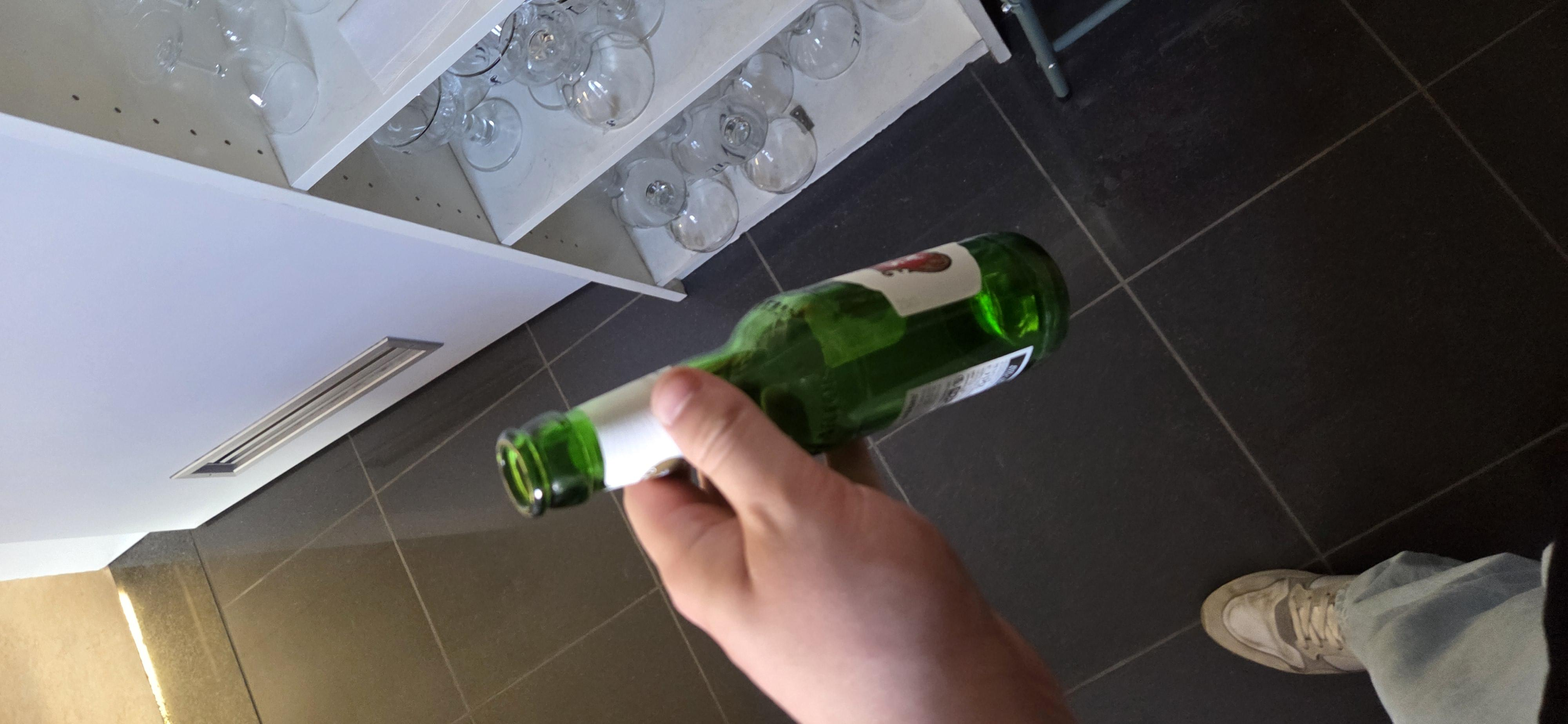Glass: (441, 225, 1094, 489), (1213, 65, 1524, 150), (1171, 169, 1441, 250), (1128, 301, 1388, 383), (1018, 252, 1230, 332), (1349, 208, 1517, 299), (1349, 333, 1547, 410)
